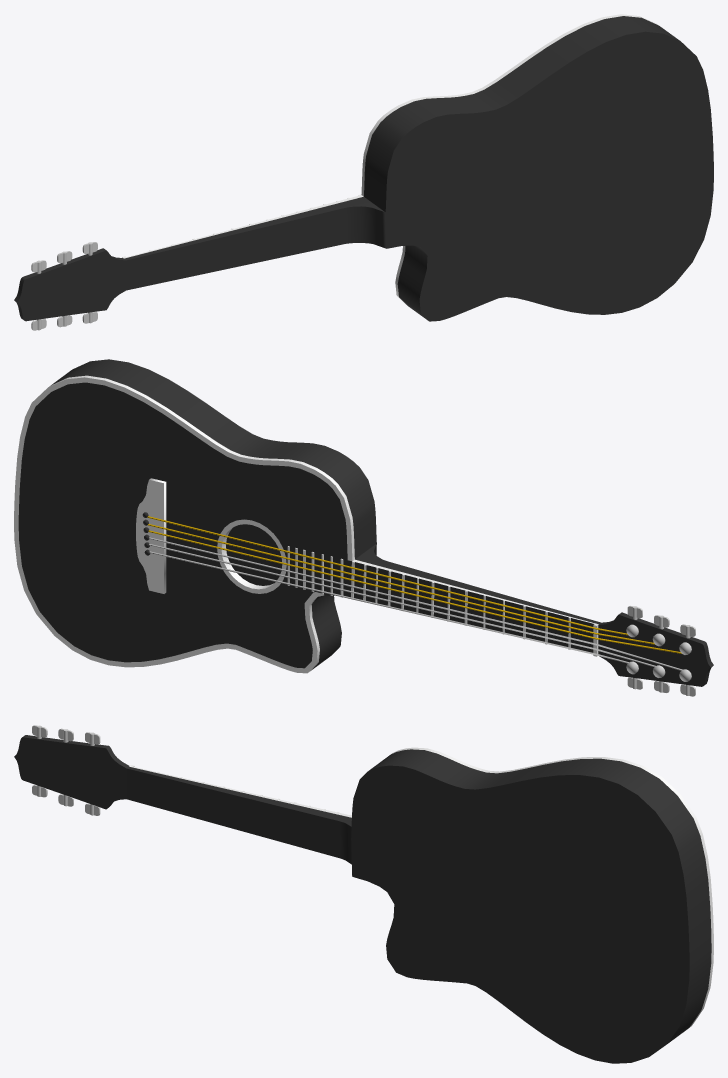
The model's file is acoustic_guitar_black.glb.
3 renders of one model, top to bottom at view 1: azimuth 30°, elevation 25°; view 2: azimuth 150°, elevation 25°; view 3: azimuth 330°, elevation 25°, orthographic. The views are drawn at different scales.
Parts seen in each view (by area): view 1: Guitar, Tuning_Keys; view 2: Guitar, Strings, Tuning_Keys; view 3: Guitar, Tuning_Keys.
Part boxes in pixels (x1,y1,x2,y2): Guitar: (14,14,713,321); Tuning_Keys: (31,242,97,330); Guitar: (14,359,713,686); Strings: (147,516,683,670); Tuning_Keys: (627,606,695,696); Guitar: (14,735,713,1063); Tuning_Keys: (32,725,100,815).
Size of the model in its own units: 5 by 1.95 by 0.352.
